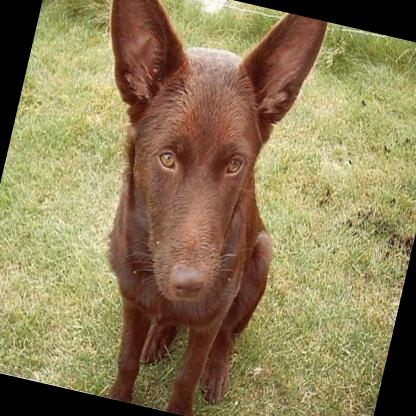kelpie: (23, 0, 329, 416)
